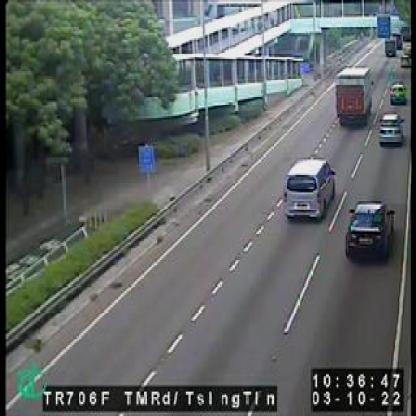Car: (284, 160, 334, 220), (345, 203, 395, 262), (377, 113, 402, 147), (388, 82, 406, 102)
Truck: (334, 66, 373, 121)
